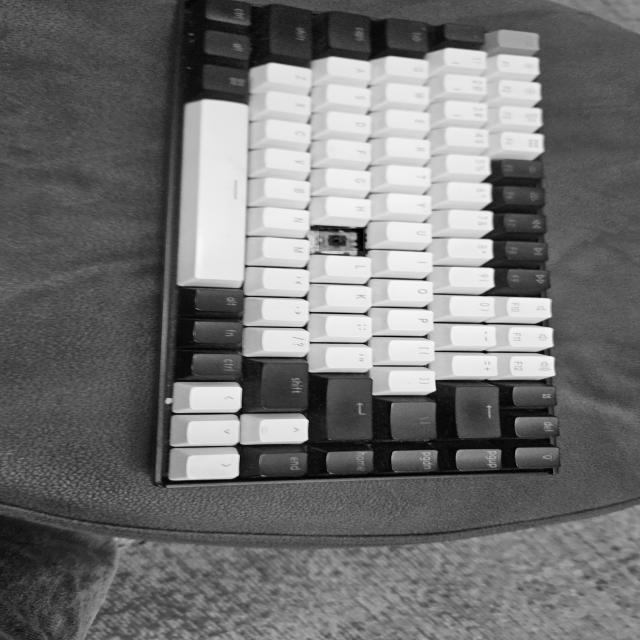C: (319, 229, 363, 251)
